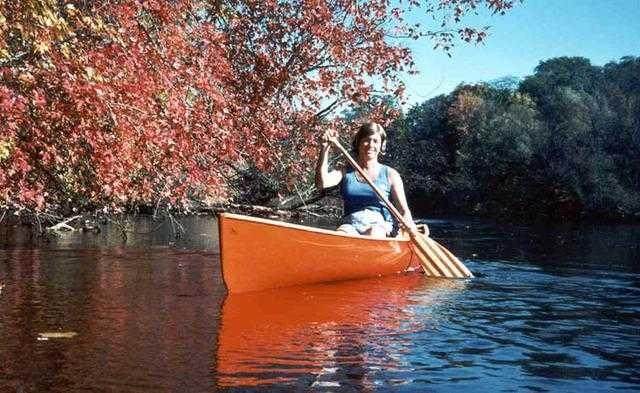kayak: (217, 212, 471, 294)
